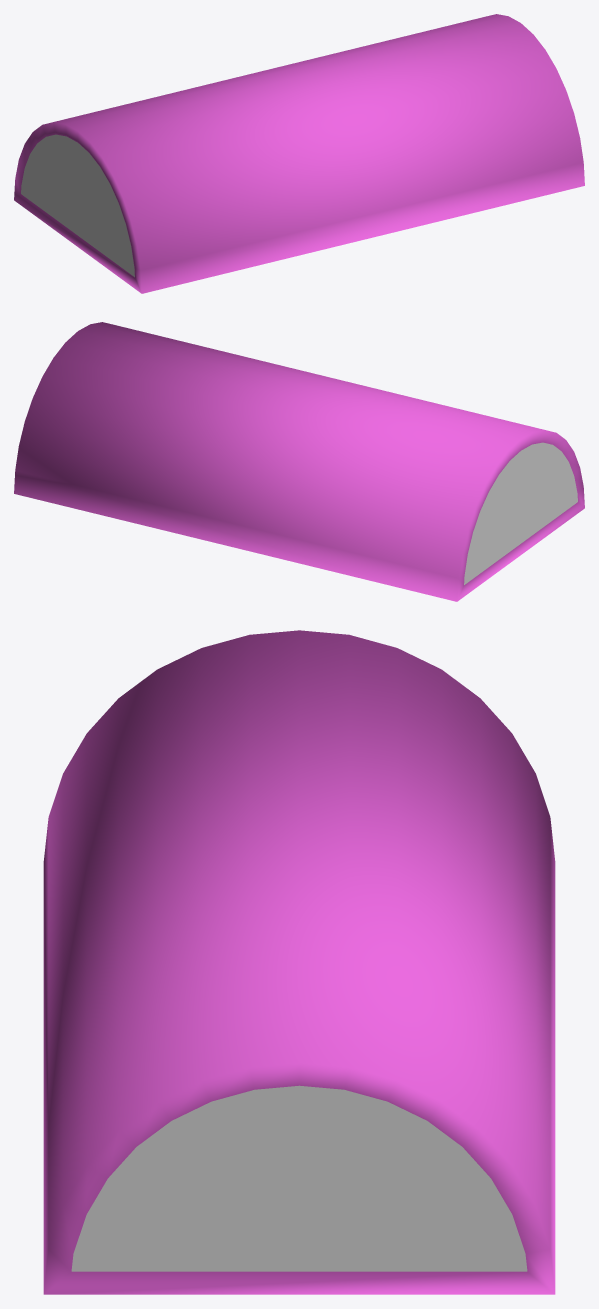
File: Kamaboko.fbx
3 renders of one model, top to bottom at view 1: azimuth 30°, elevation 25°; view 2: azimuth 150°, elevation 25°; view 3: azimuth 270°, elevation 25°, orthographic. The views are drawn at different scales.
Parts seen in each view (by area): view 1: Circle; view 2: Circle; view 3: Circle.
Part boxes in pixels (bbox=[...]): Circle: bbox=[14, 14, 584, 293]; Circle: bbox=[14, 322, 584, 601]; Circle: bbox=[43, 630, 555, 1294].
Size of the model in its own units: 785 by 196 by 392.
